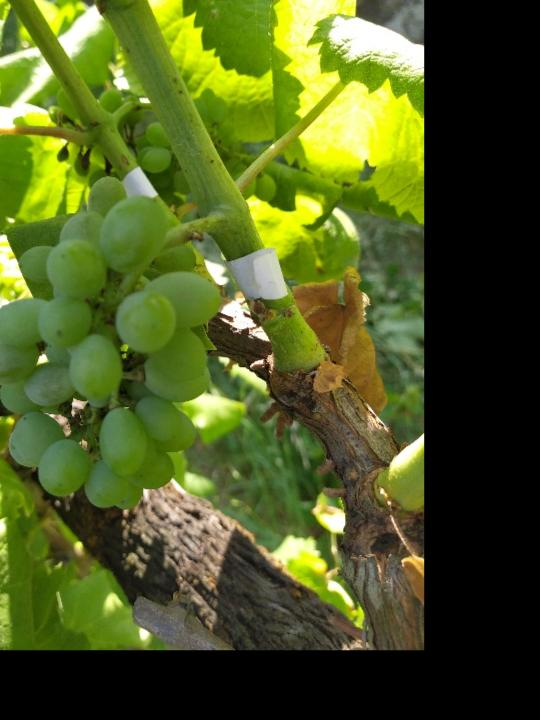grape: (0, 175, 227, 513)
